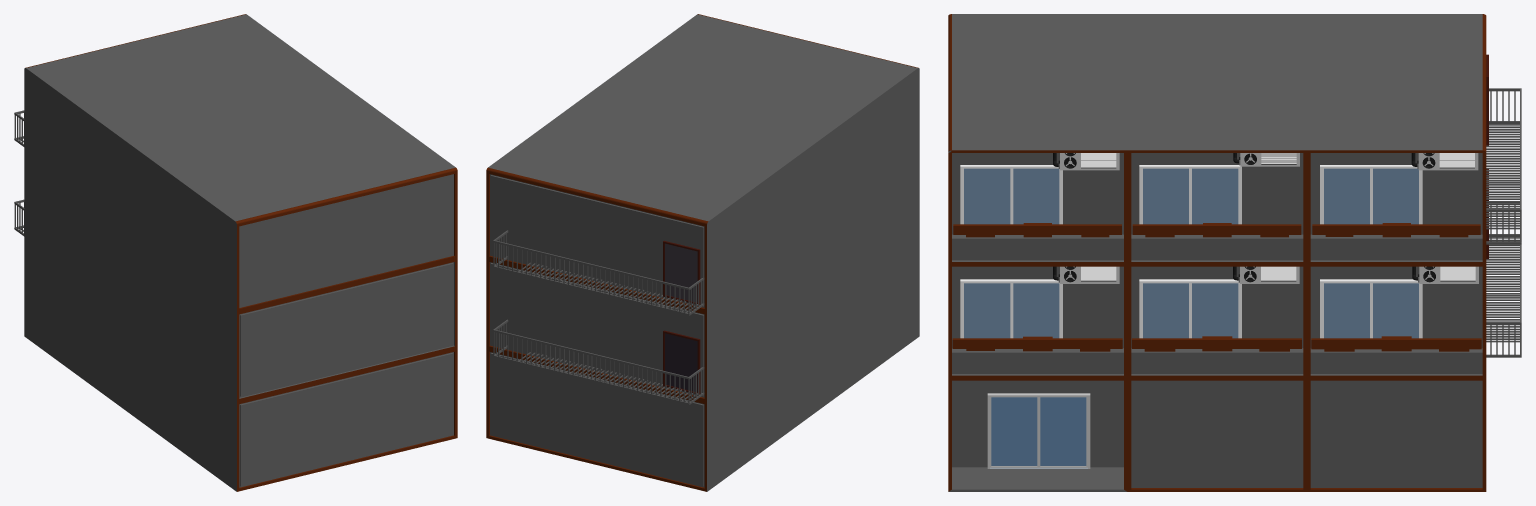
File: JonasApartment.fbx
The picture shows the model from 3 angles, left to right: view 1: azimuth 30°, elevation 25°; view 2: azimuth 150°, elevation 25°; view 3: azimuth 270°, elevation 25°; orthographic projection. The views are drawn at different scales.
Parts seen in each view (by area): view 1: JonasApartment_Body; view 2: JonasApartment_Body, EmergencyBalcony1, EmergencyBalcony1.001, EmergencyDoor1, EmergencyDoor2; view 3: JonasApartment_Body, MainDoor, BalconyDoor.004, BalconyDoor.001, BalconyDoor, BalconyDoor.003, BalconyDoor.002, BalconyDoor.005, EmergencyBalcony1, EmergencyBalcony1.001, AC MODEL.001, AC MODEL.003 (+4 smaller).
Part boxes in pixels (x1,y1,x2,y2): JonasApartment_Body: [24, 14, 457, 491]; JonasApartment_Body: [486, 14, 919, 491]; EmergencyBalcony1: [493, 230, 704, 315]; EmergencyBalcony1.001: [493, 319, 704, 404]; EmergencyDoor1: [663, 240, 700, 304]; EmergencyDoor2: [663, 330, 700, 394]; JonasApartment_Body: [948, 14, 1486, 491]; MainDoor: [987, 393, 1090, 468]; BalconyDoor.004: [1139, 165, 1241, 224]; BalconyDoor.001: [1139, 279, 1241, 338]; BalconyDoor: [960, 279, 1062, 338]; BalconyDoor.003: [960, 165, 1062, 224]; BalconyDoor.002: [1320, 279, 1422, 338]; BalconyDoor.005: [1320, 165, 1422, 224]; EmergencyBalcony1: [1486, 88, 1521, 244]; EmergencyBalcony1.001: [1486, 202, 1521, 357]; AC MODEL.001: [1411, 153, 1478, 170]; AC MODEL.003: [1053, 266, 1119, 283].
Size of the model in its own units: 1800 by 2100 by 3197.
8 materials, 8 textured.
